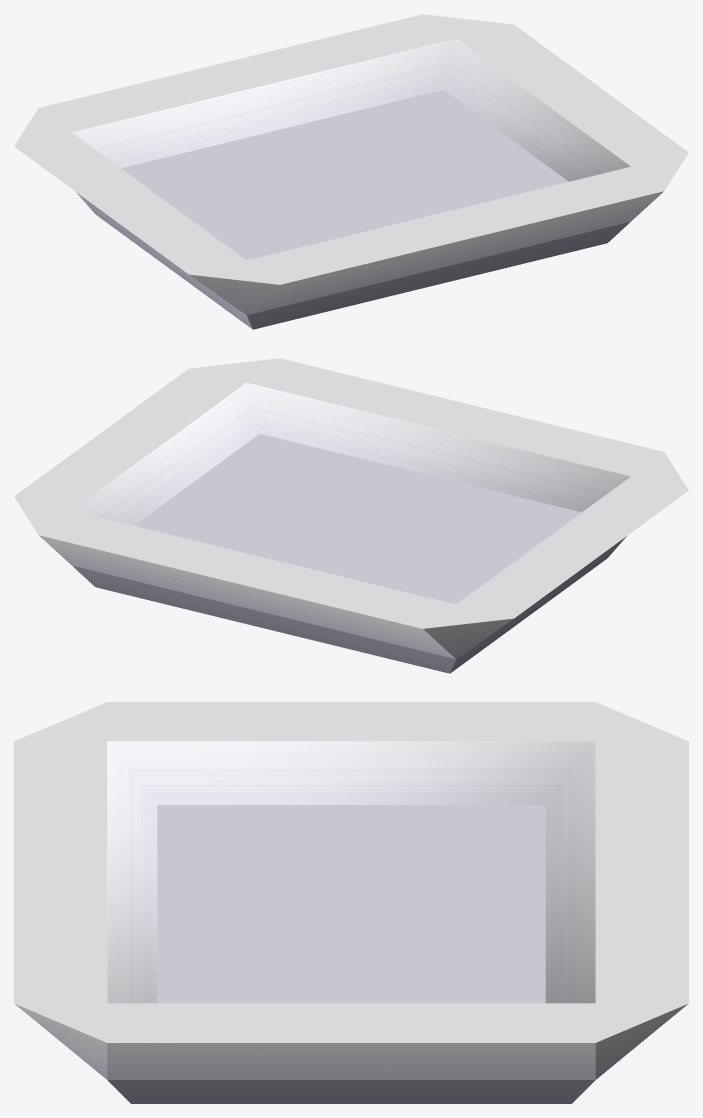
File: k-food-plate-rectangle.glb
The picture shows the model from 3 angles, top to bottom: view 1: azimuth 30°, elevation 25°; view 2: azimuth 150°, elevation 25°; view 3: azimuth 270°, elevation 25°; orthographic projection. The views are drawn at different scales.
Parts seen in each view (by area): view 1: plate-rectangle; view 2: plate-rectangle; view 3: plate-rectangle.
Boxes of the visible parts, left/top/right/bottom form: plate-rectangle: left=14, top=14, right=688, bottom=329; plate-rectangle: left=14, top=358, right=688, bottom=673; plate-rectangle: left=14, top=702, right=688, bottom=1103.
Size of the model in its own units: 0.27 by 0.0409 by 0.226.
Materials: 1 (1 with a texture image).
